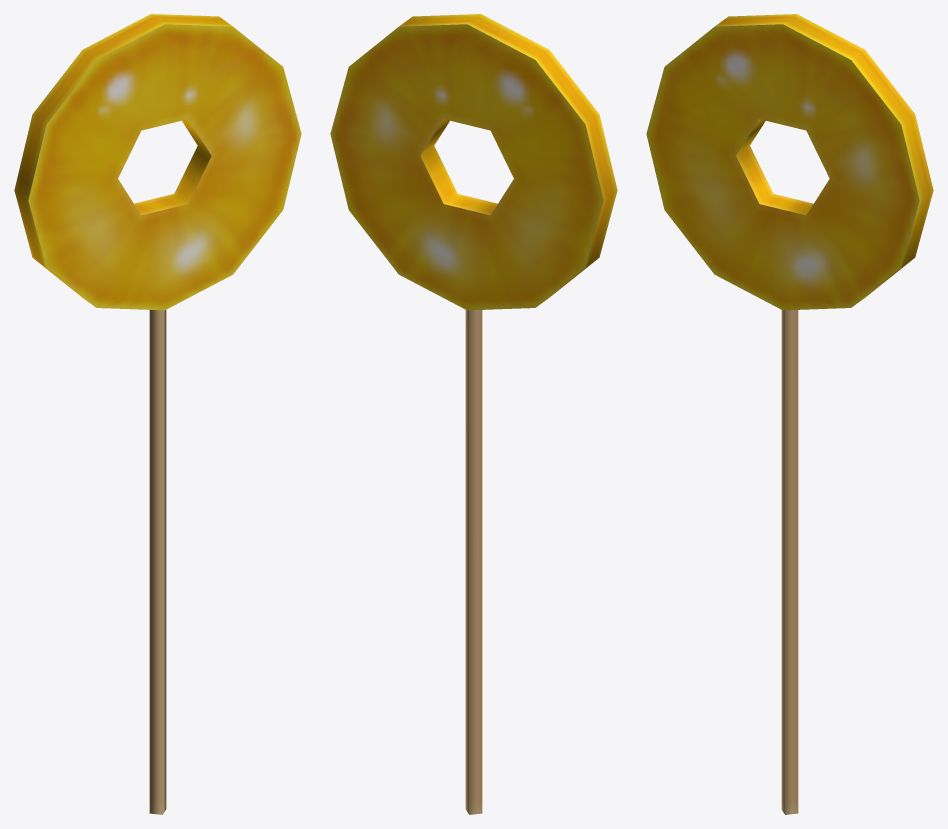
Rendered from jsf_Pineapple_03.fbx.
3 views of the same model, side by side, from view 1: azimuth 30°, elevation 25°; view 2: azimuth 150°, elevation 25°; view 3: azimuth 330°, elevation 25° (orthographic).
Visible parts, largest first — view 1: jsf_Pineapple_03; view 2: jsf_Pineapple_03; view 3: jsf_Pineapple_03.
Boxes of the visible parts, left/top/right/bottom form: jsf_Pineapple_03: left=14, top=14, right=301, bottom=814; jsf_Pineapple_03: left=330, top=14, right=617, bottom=814; jsf_Pineapple_03: left=646, top=14, right=933, bottom=814.
Bounding box in the file's own units: 6.95 × 19.26 × 0.6148.
